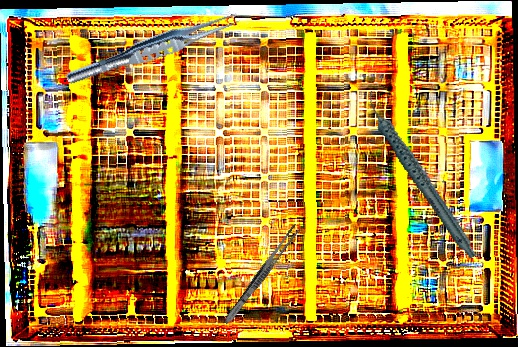Dressing Forceps: (221, 222, 302, 327)
Handpiece: (363, 76, 478, 273)
Tissue Forceps: (63, 4, 244, 93)
